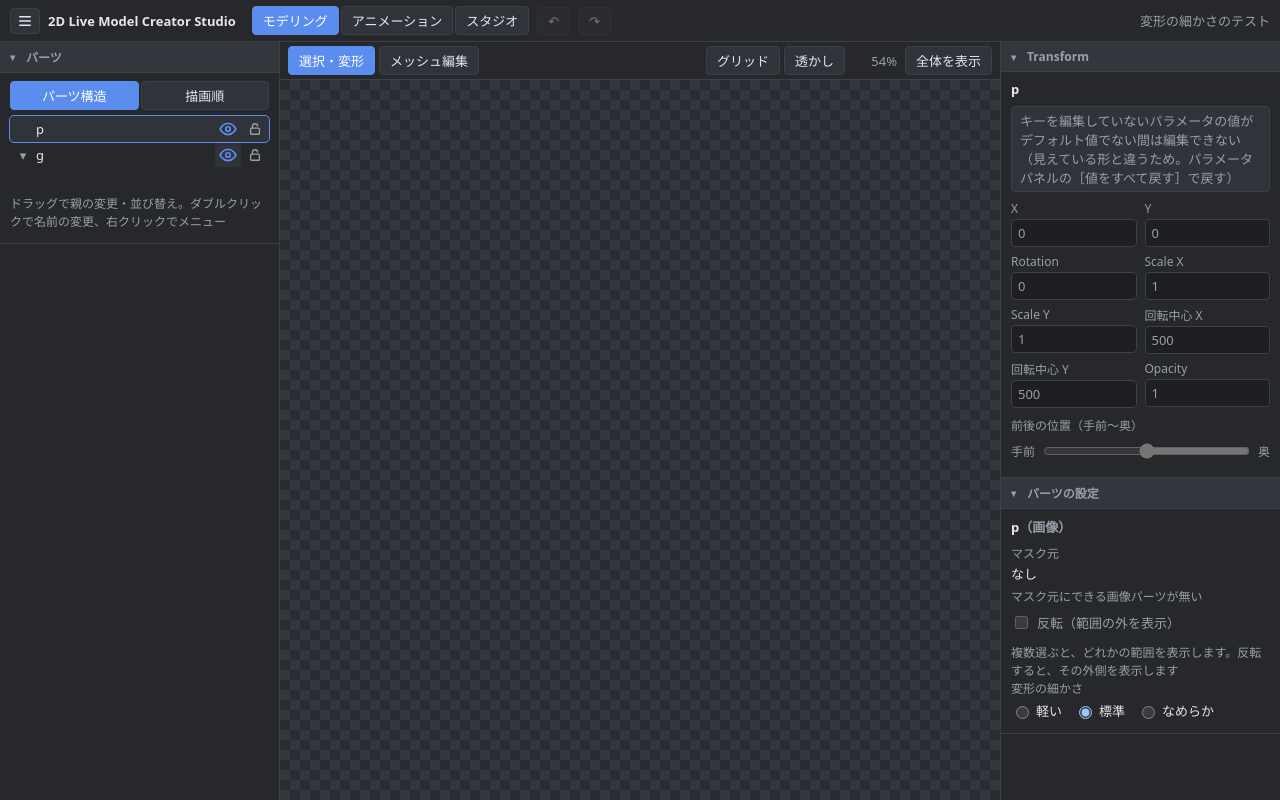
変形の細かさのセクション › キーが無くても「軽い」の限界を知らせ、取り消すとメッシュは変えない
The width and height of the screenshot is (1280, 800).
Click the radio button labelled "軽い": (1022, 712) [1016,706,1029,718]
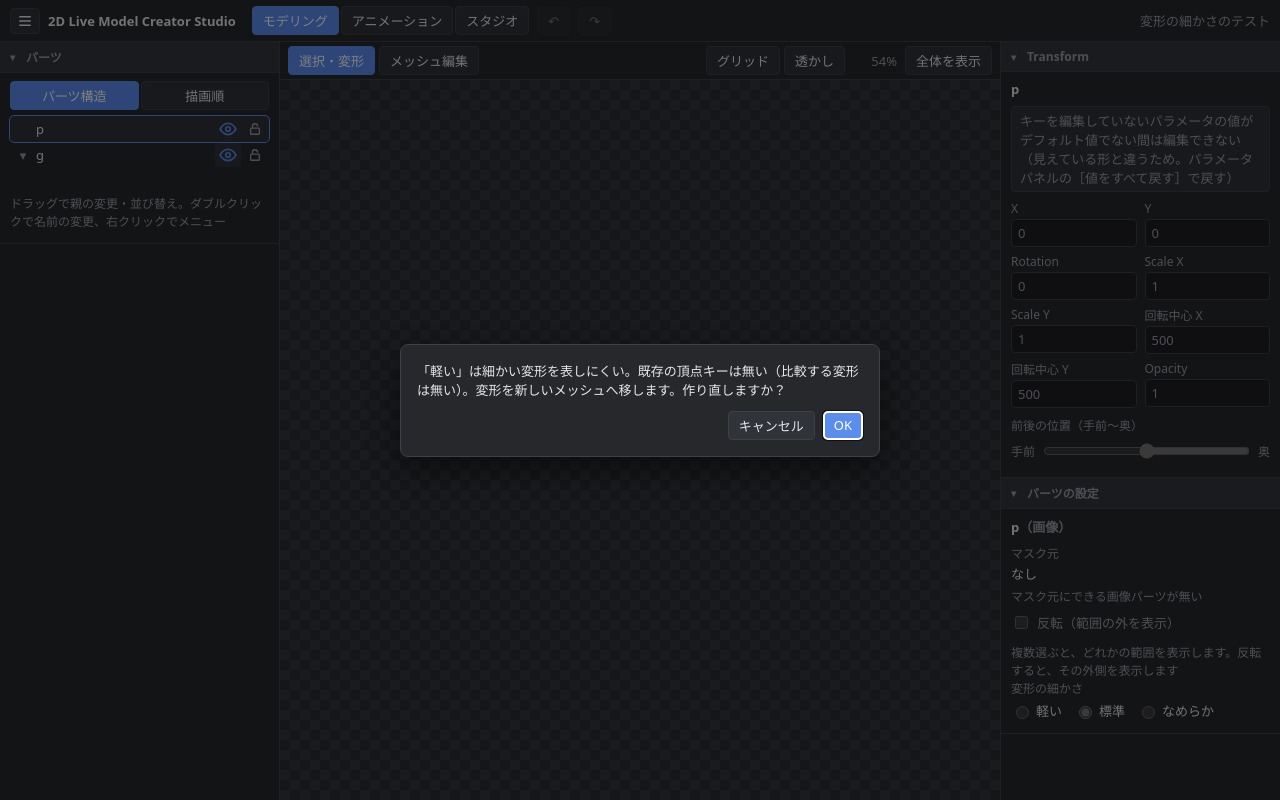
Expected: the text "既存の頂点キーは無い" is shown, [417,362,859,398]
Click the button "キャンセル": (771, 425) [728,410,815,440]
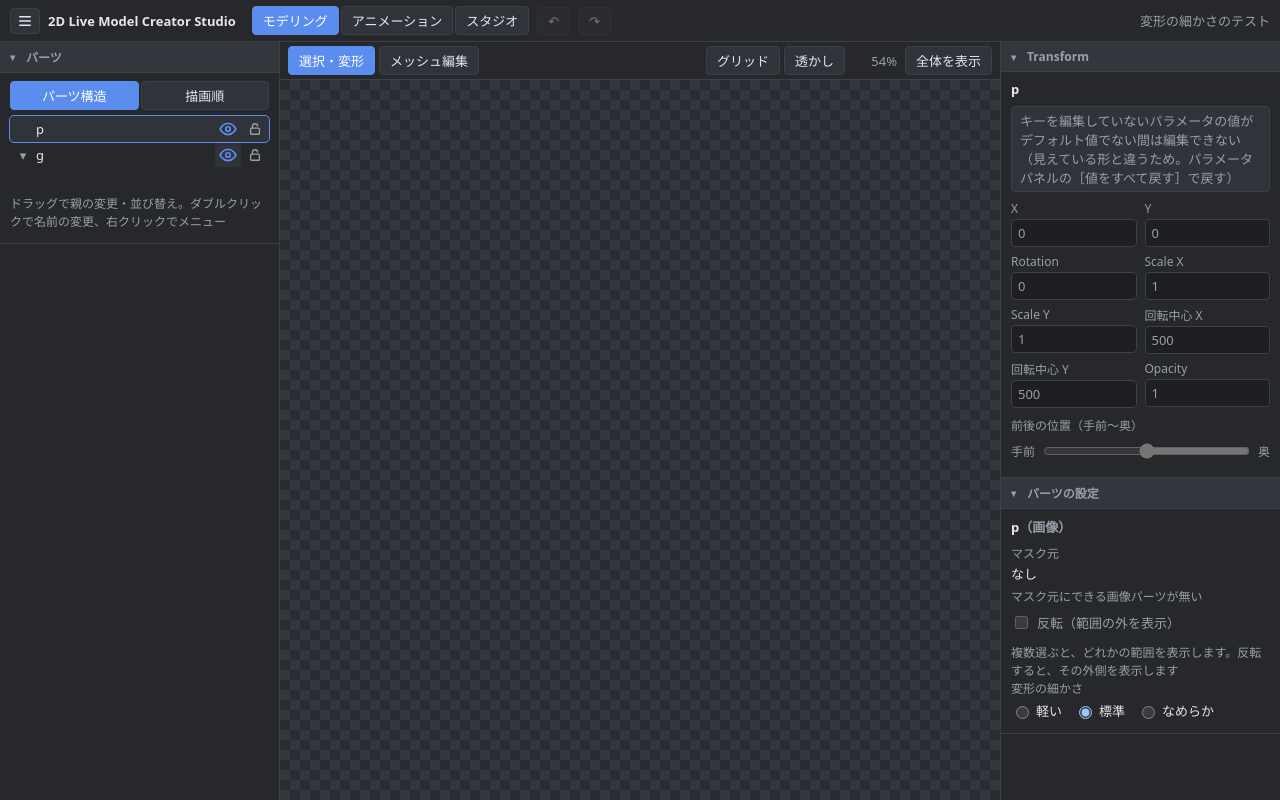
Expected: the radio button labelled "軽い" is enabled
Click the radio button labelled "軽い": (1022, 712) [1016,706,1029,718]
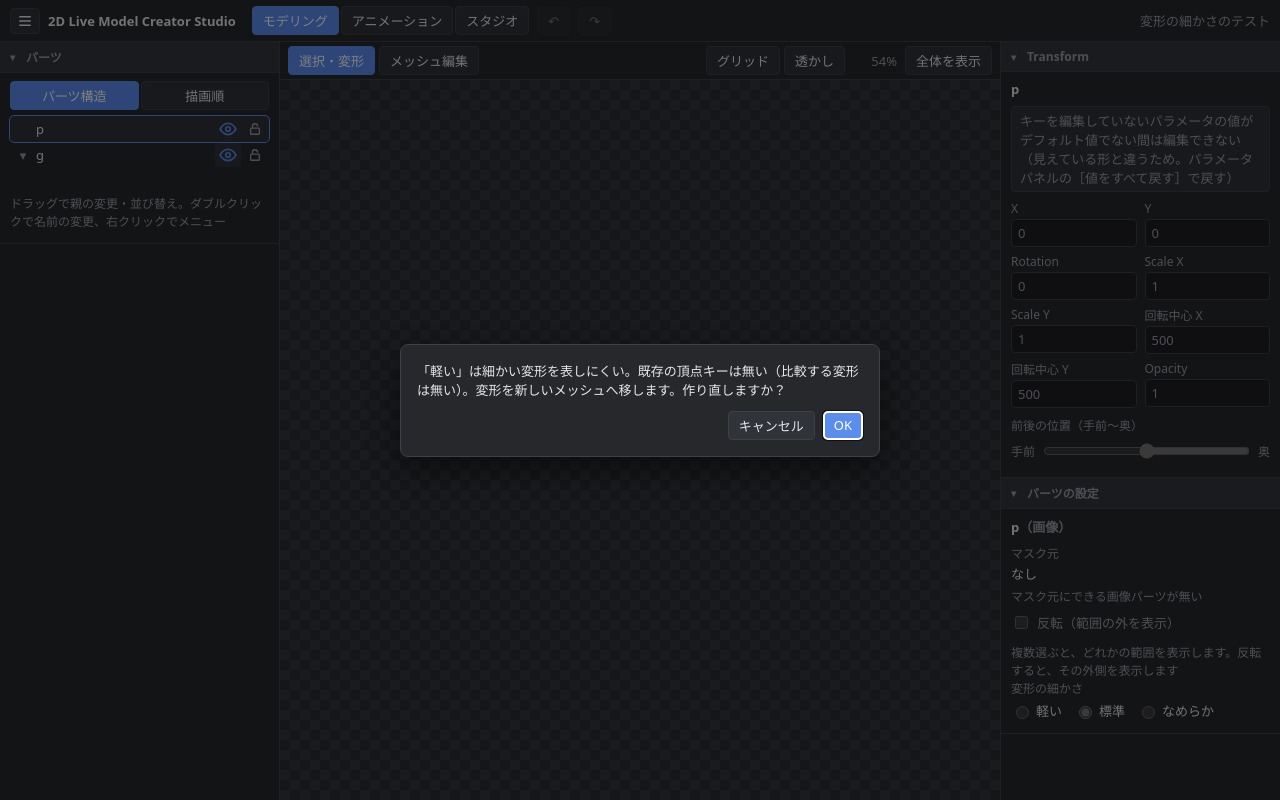
Click the button "OK": (843, 425) [823,410,863,440]
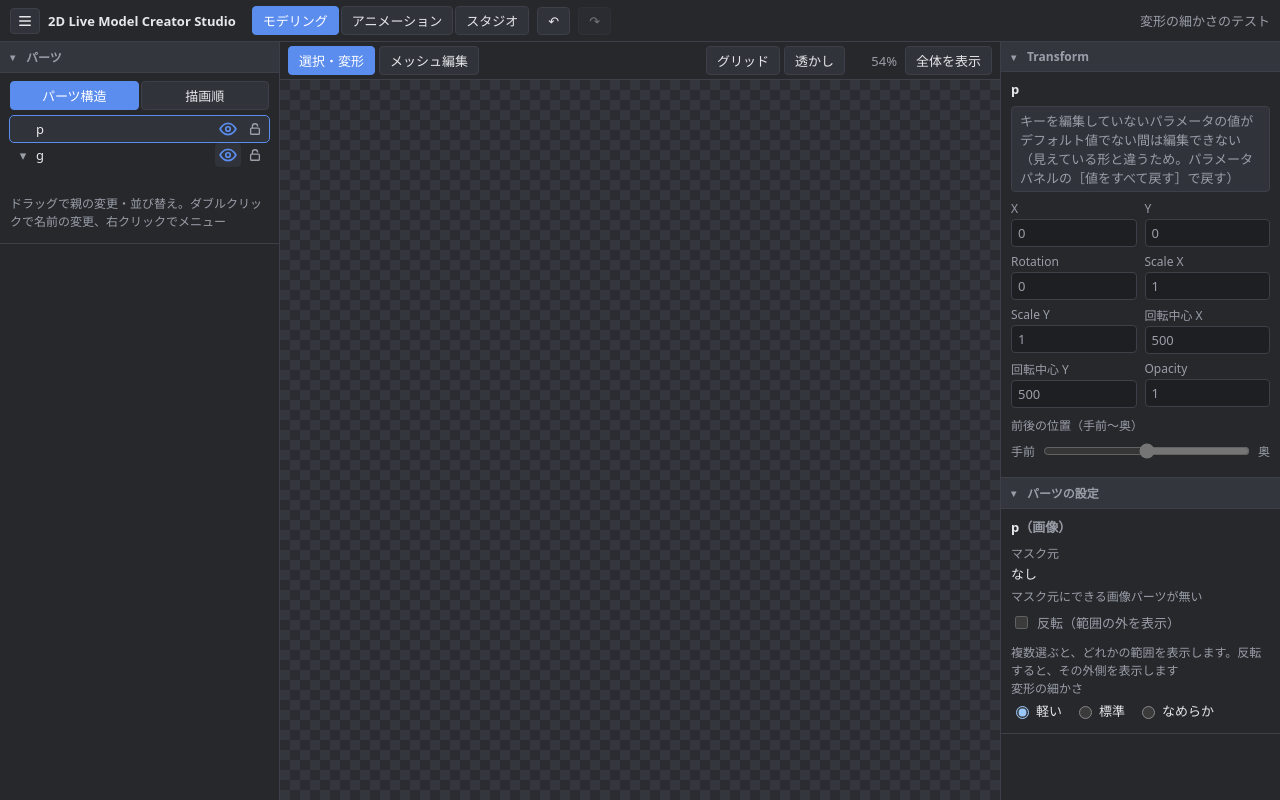
Expected: the text "変形を新しいメッシュへ移します" is gone
